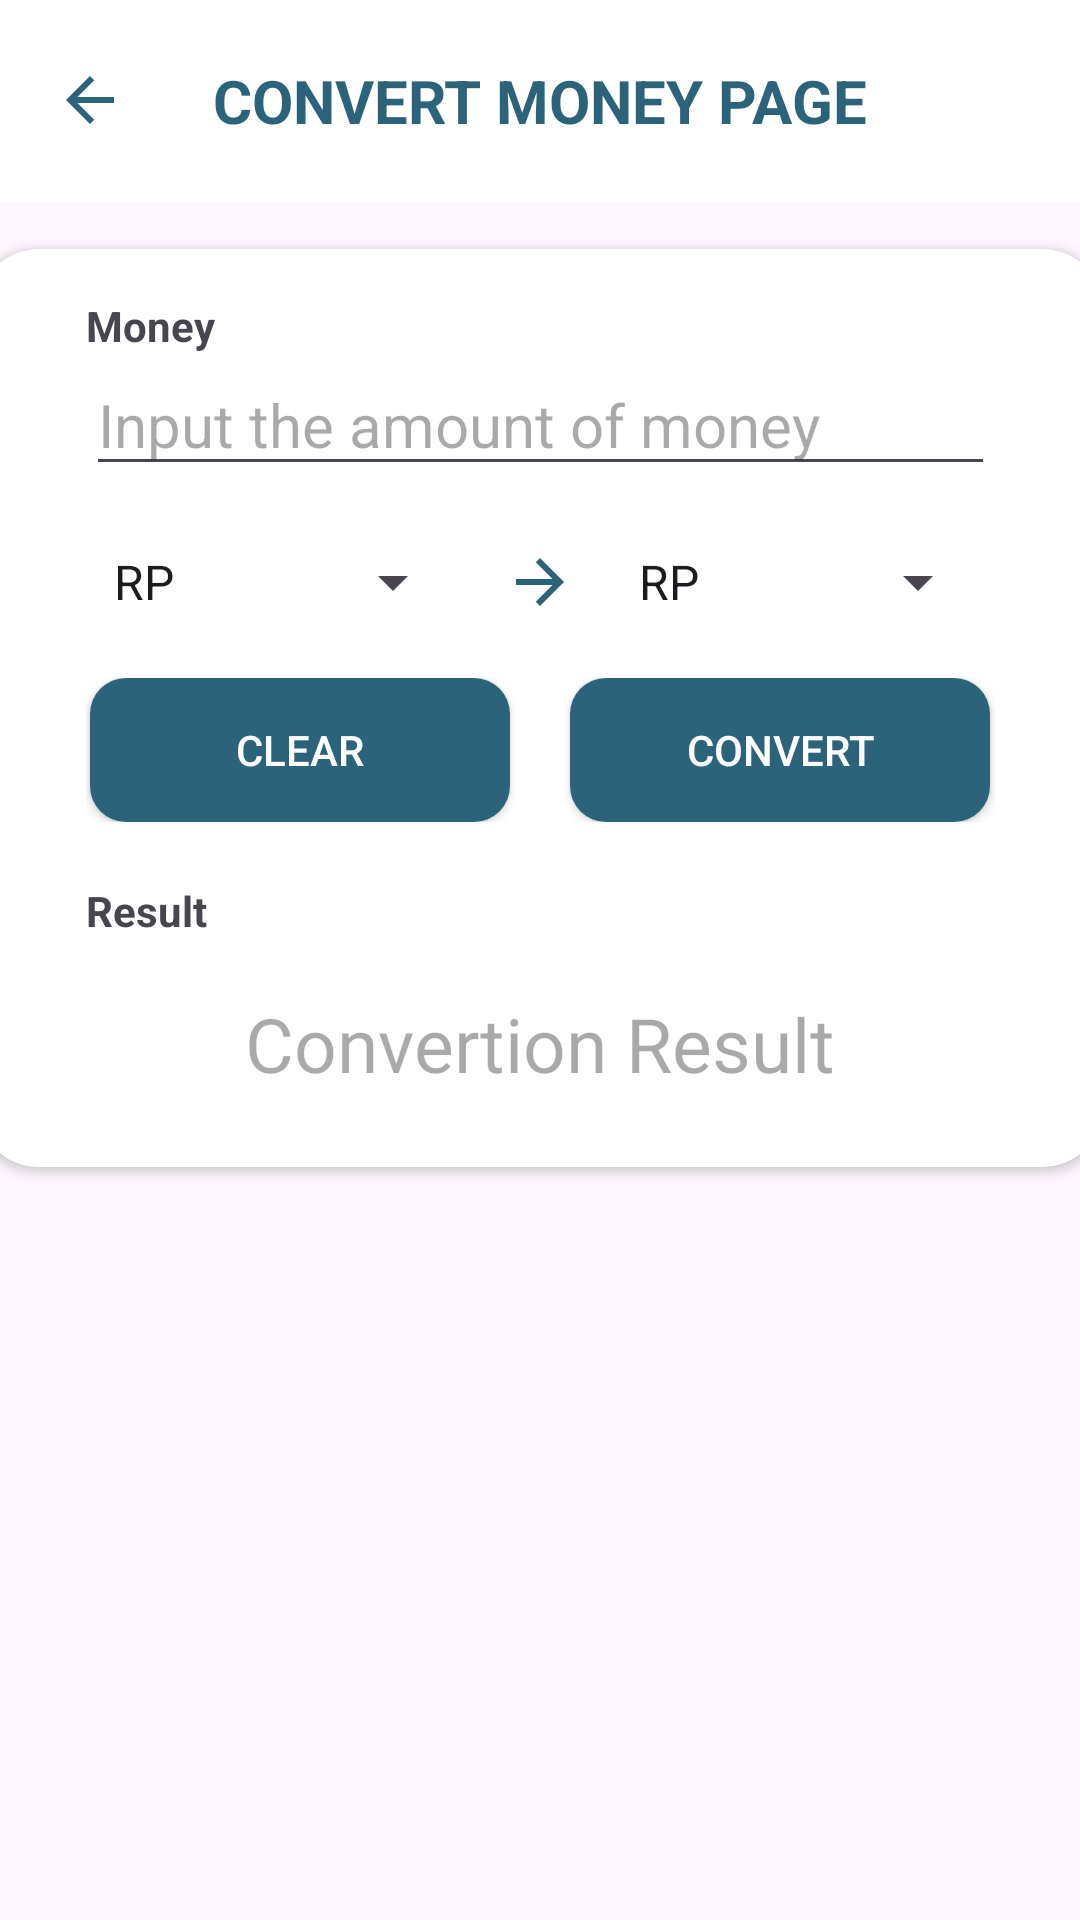

Icons on this 1080 × 1920 Android screen, each with its box as bbox(x1, y1, x2, y2):
arrow back: bbox(66, 76, 114, 124)
arrow right: bbox(516, 558, 564, 606)
